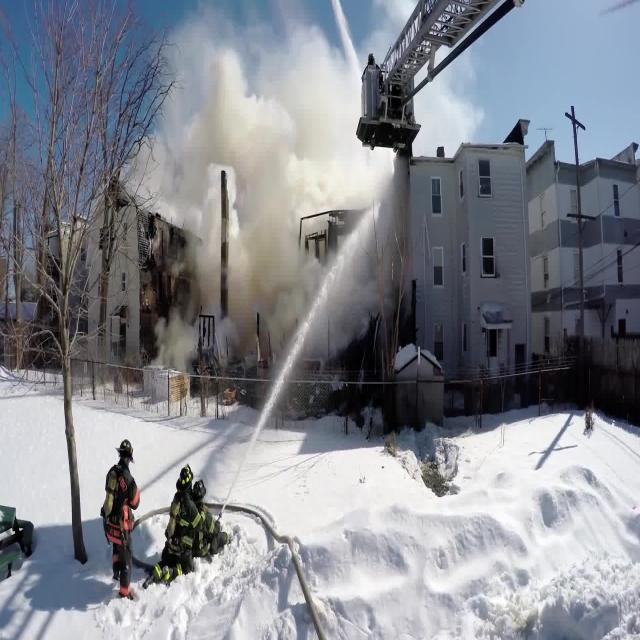Smoke: (105, 8, 395, 370)
